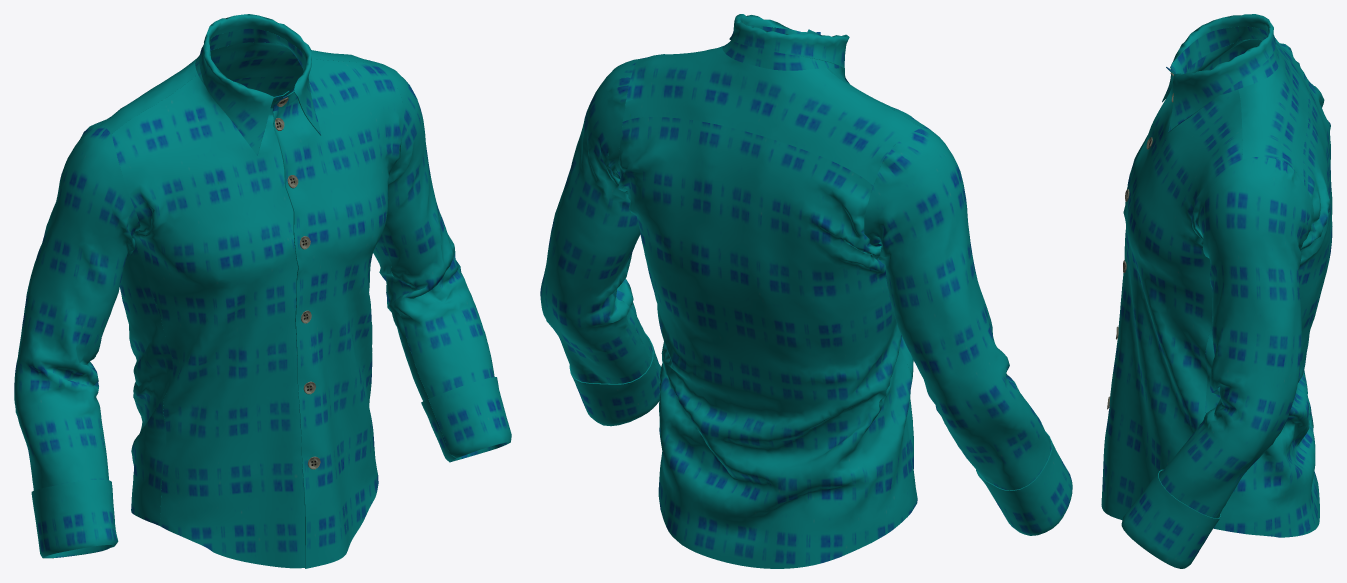
3 renders of one model, left to right at view 1: azimuth 30°, elevation 25°; view 2: azimuth 150°, elevation 25°; view 3: azimuth 270°, elevation 25°, orthographic. The views are drawn at different scales.
Visible parts, largest first — view 1: Shirt01objcleaner; view 2: Shirt01objcleaner; view 3: Shirt01objcleaner.
Boxes of the visible parts, <box> form: Shirt01objcleaner: <box>14,14,511,568</box>; Shirt01objcleaner: <box>540,14,1072,568</box>; Shirt01objcleaner: <box>1101,14,1332,568</box>.
Bounding box in the file's own units: 0.6443 × 0.6587 × 0.2865.
Materials: 2 (2 with a texture image).
